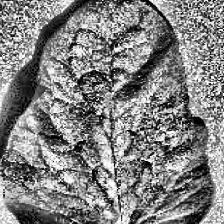spider mites: (0, 0, 214, 224)
